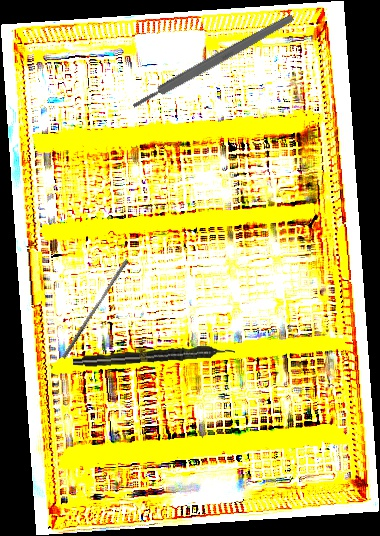Handpiece: (72, 343, 236, 370)
Pusher: (61, 256, 130, 362)
Scalpel Handle: (130, 12, 296, 111)
